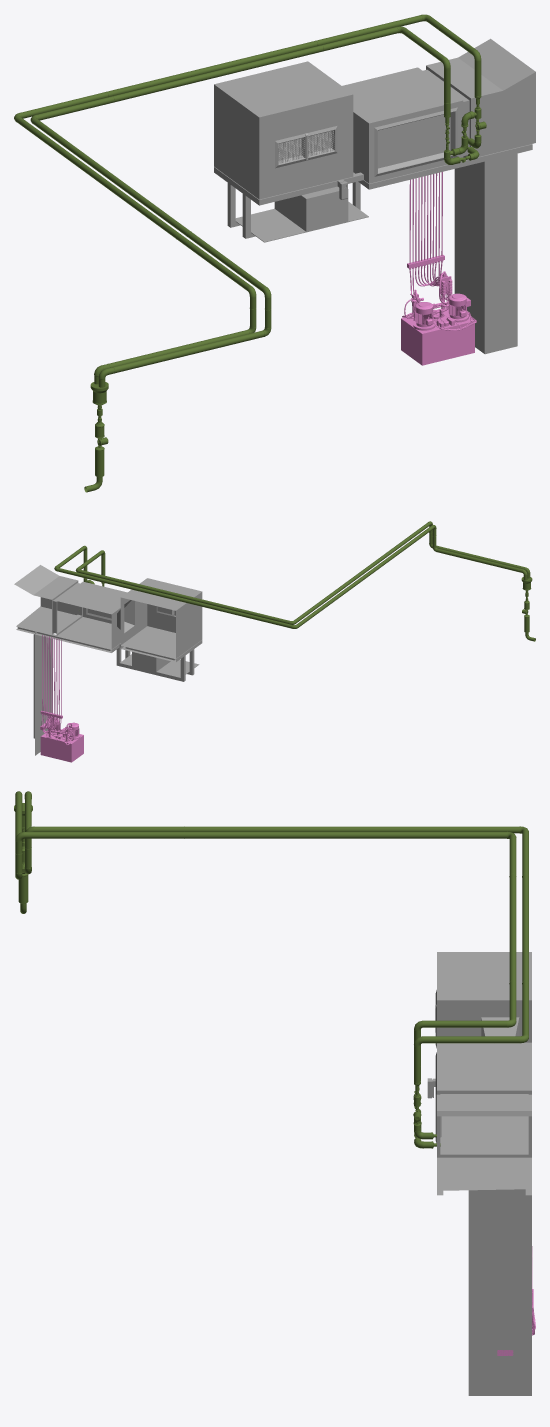
File: Ventilation.fbx
3 renders of one model, top to bottom at view 1: azimuth 30°, elevation 25°; view 2: azimuth 150°, elevation 25°; view 3: azimuth 270°, elevation 25°, orthographic. The views are drawn at different scales.
Visible parts, largest first — view 1: Ventilation-Frame, HydraulicMachine, Ventilation_Main-11, Ventilation_Main-3, Ventilation-Pipes-Complex, Ventilation_Main-4, Ventilation_Main-12, Ventilation-Frame.001, Ventilation_Main-2, Ventilation_Main-14, Ventilation_Main-15, Ventilation_Main-6 (+7 smaller); view 2: Ventilation-Frame, HydraulicMachine, Ventilation_Main-3, Ventilation_Main-11, Ventilation_Main-4, Ventilation_Main-12, Ventilation_Main-2; view 3: Ventilation-Frame, Ventilation_Main-13, Ventilation_Main-14, Ventilation_Main-12, Ventilation_Main-4, Ventilation_Main-5, Ventilation_Main-6, Ventilation_Main-1, Ventilation_Main-11, Ventilation_Main-3, Ventilation_Main-9.
Part boxes in pixels (bbox=[...]): Ventilation-Frame: bbox=[214, 38, 535, 354]; HydraulicMachine: bbox=[401, 172, 476, 365]; Ventilation_Main-11: bbox=[112, 45, 324, 102]; Ventilation_Main-3: bbox=[106, 40, 318, 96]; Ventilation-Pipes-Complex: bbox=[444, 96, 486, 164]; Ventilation_Main-4: bbox=[14, 92, 108, 172]; Ventilation_Main-12: bbox=[30, 96, 114, 169]; Ventilation-Frame.001: bbox=[278, 130, 334, 163]; Ventilation_Main-2: bbox=[316, 14, 442, 45]; Ventilation_Main-14: bbox=[186, 231, 271, 310]; Ventilation_Main-15: bbox=[176, 310, 271, 357]; Ventilation_Main-6: bbox=[175, 233, 256, 309]; Ventilation-Frame: bbox=[14, 565, 202, 755]; HydraulicMachine: bbox=[40, 635, 83, 762]; Ventilation_Main-3: bbox=[118, 583, 241, 615]; Ventilation_Main-11: bbox=[122, 580, 245, 612]; Ventilation_Main-4: bbox=[241, 594, 339, 628]; Ventilation_Main-12: bbox=[244, 593, 333, 624]; Ventilation_Main-2: bbox=[54, 560, 119, 586]; Ventilation-Frame: bbox=[427, 952, 531, 1395]; Ventilation_Main-13: bbox=[184, 832, 373, 838]; Ventilation_Main-14: bbox=[15, 831, 184, 854]; Ventilation_Main-12: bbox=[374, 831, 516, 874]; Ventilation_Main-4: bbox=[374, 826, 528, 874]; Ventilation_Main-5: bbox=[184, 826, 373, 831]; Ventilation_Main-6: bbox=[25, 826, 184, 849]; Ventilation_Main-1: bbox=[414, 1036, 493, 1083]; Ventilation_Main-11: bbox=[509, 873, 516, 983]; Ventilation_Main-3: bbox=[522, 873, 528, 983]; Ventilation_Main-9: bbox=[414, 1020, 493, 1079].
Size of the model in its own units: 1238 by 600 by 826.
